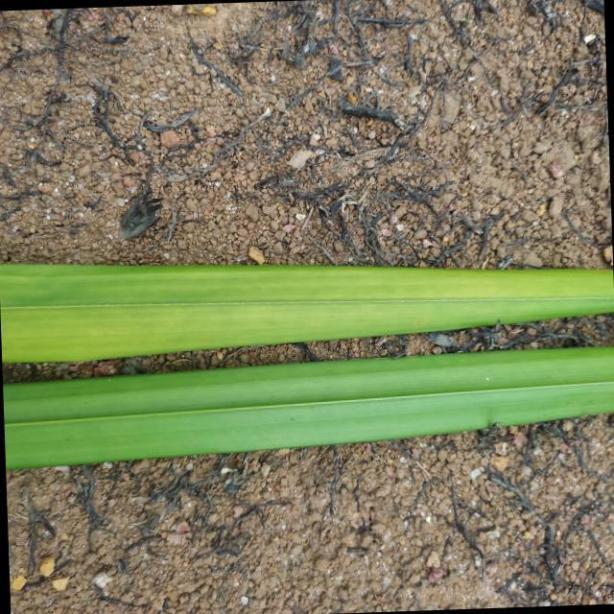nitrogen: (0, 344, 614, 470), (0, 254, 614, 362)
